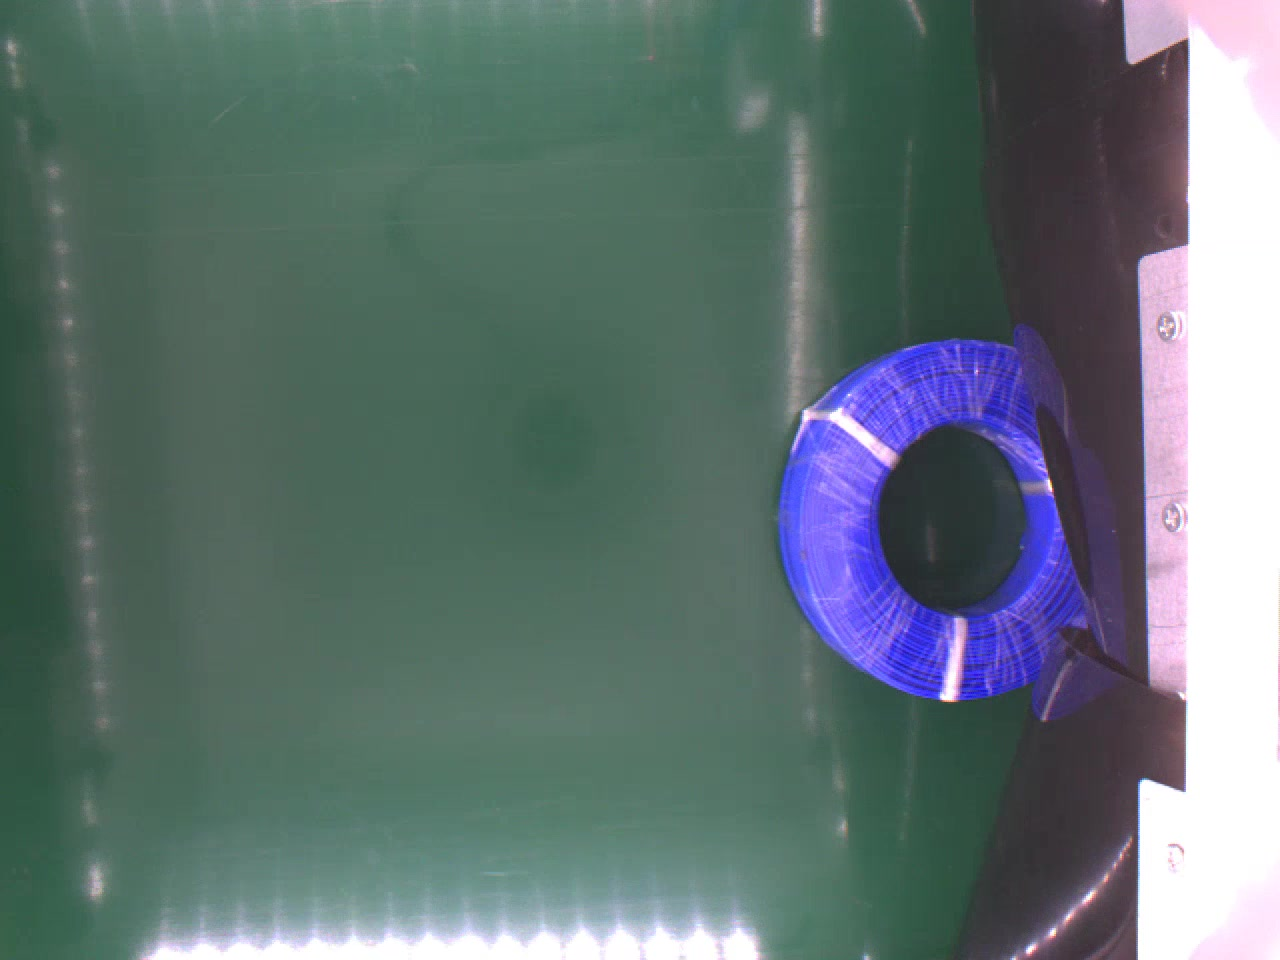blue: (774, 336, 1094, 694)
